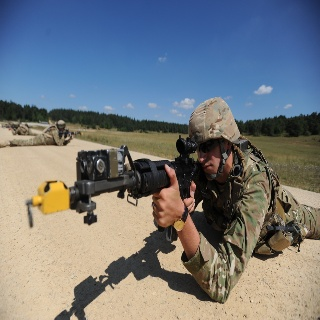rifle: (23, 136, 214, 244)
